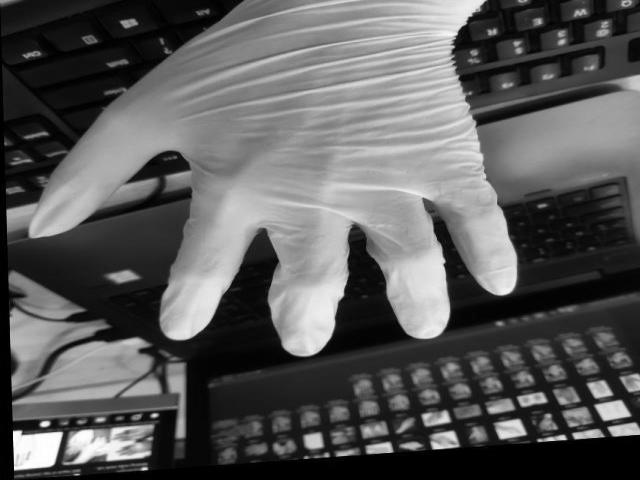gloved: (34, 0, 526, 355)
